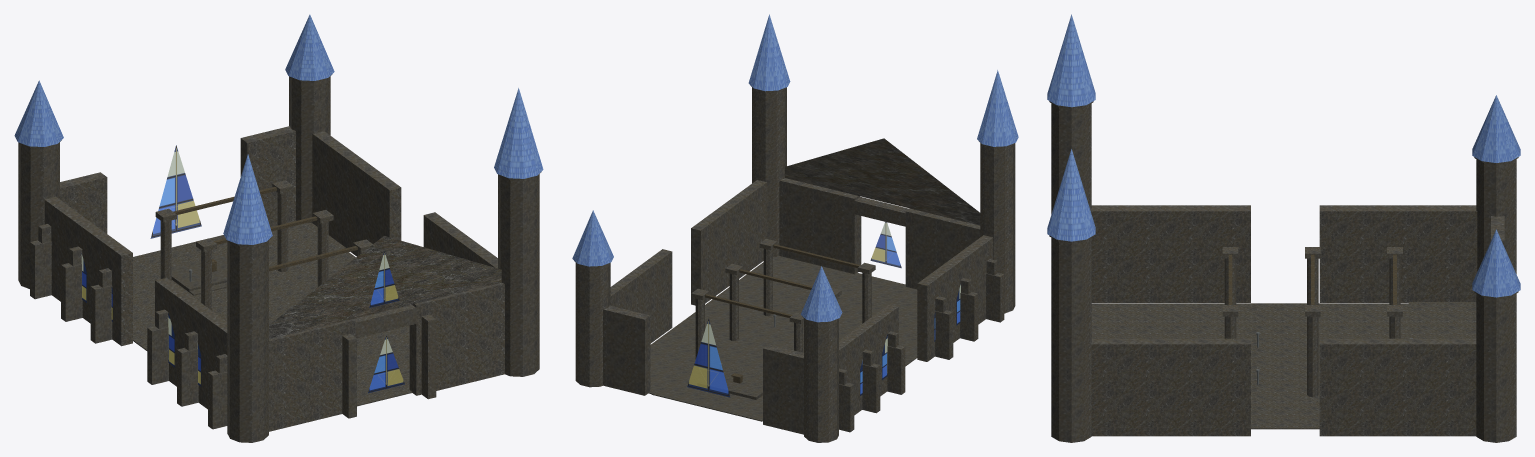
Rendered from hall.gltf.
The picture shows the model from 3 angles, left to right: view 1: azimuth 30°, elevation 25°; view 2: azimuth 150°, elevation 25°; view 3: azimuth 270°, elevation 25°; orthographic projection. The views are drawn at different scales.
Parts seen in each view (by area): view 1: hall; view 2: hall; view 3: hall.
Part boxes in pixels (left/top/right/bottom): hall: left=14, top=14, right=543, bottom=442; hall: left=572, top=14, right=1018, bottom=442; hall: left=1047, top=14, right=1520, bottom=442.
Bounding box in the file's own units: 26.9 × 23 × 34.52.
